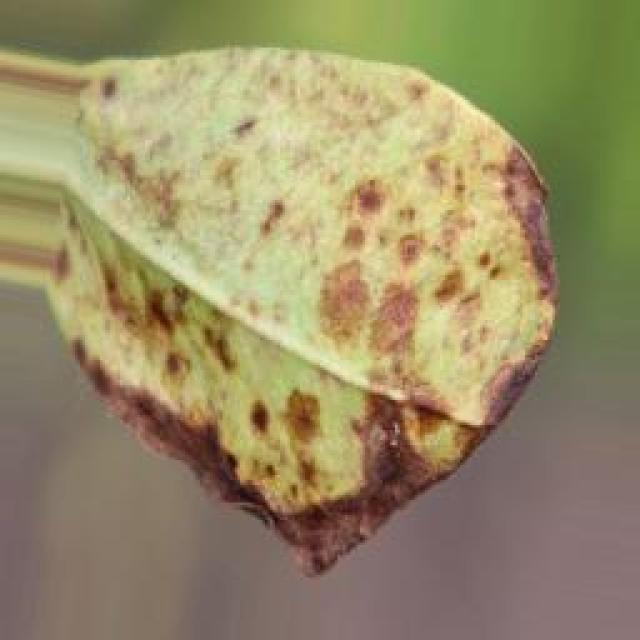Whitefly: (26, 46, 570, 572)
